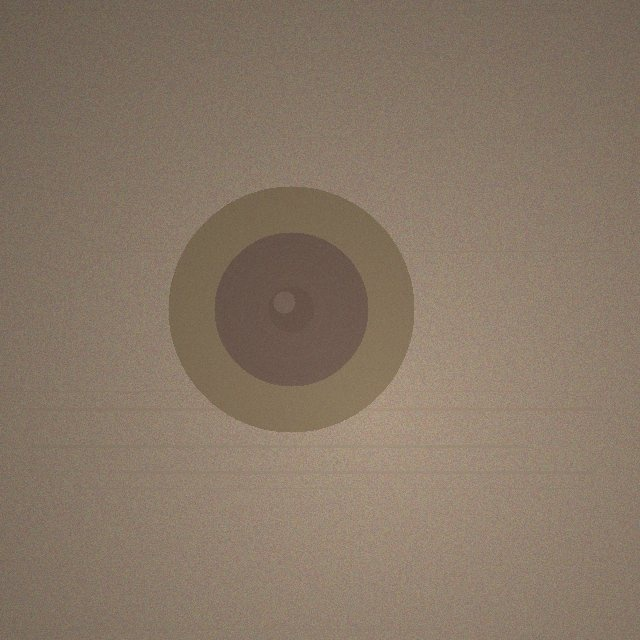good: (168, 186, 414, 432)
